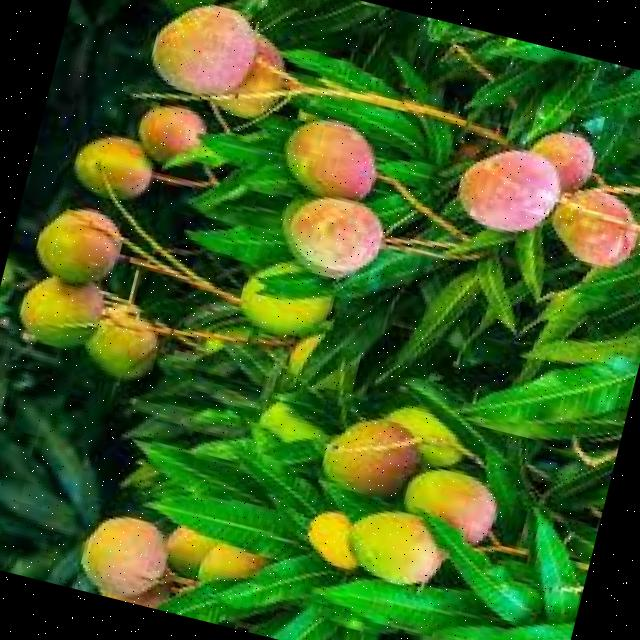mango: (276, 194, 382, 281)
